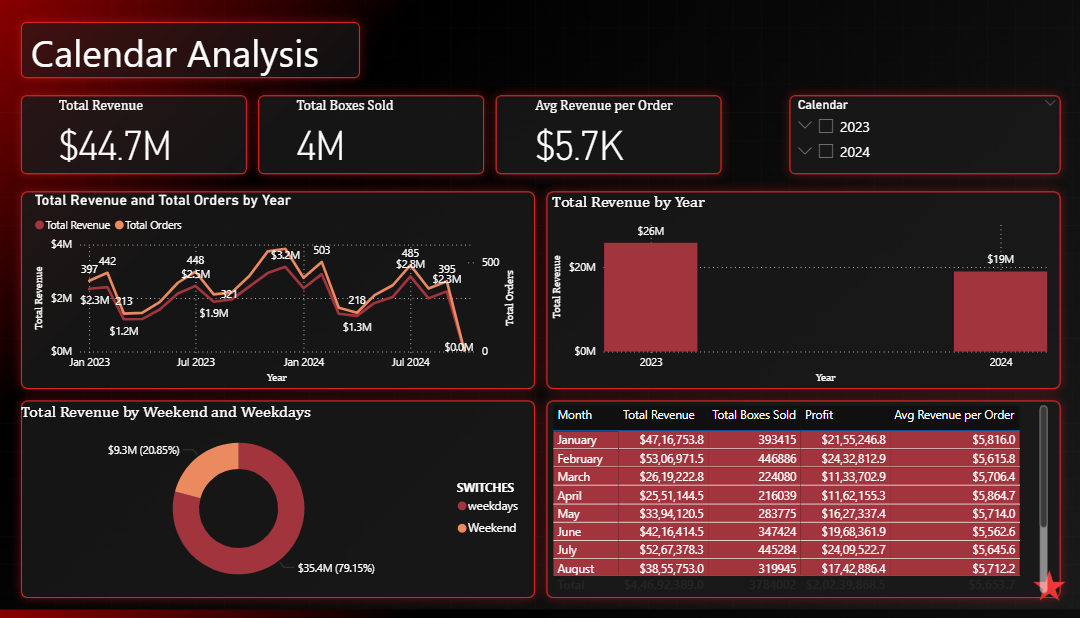

What the dashboard file says about the page in this screenshot:
{"tool":"powerbi","page":{"name":"Calendar Analysis","canvas":[1280,720],"ordinal":4},"visuals":[{"type":"image","box":[16,0,1264,720],"z":0},{"type":"lineChart","title":"Total Revenue and Total Orders by Year","fields":{"Y":["All Mesaures.Total Revenue"],"Category":["calendar.cal_date.Variation.Date Hierarchy.Year","calendar.cal_date.Variation.Date Hierarchy.Quarter","calendar.cal_date.Variation.Date Hierarchy.Month"],"Y2":["All Mesaures.Total Orders"]},"box":[64,224,560,224],"z":1000},{"type":"clusteredColumnChart","fields":{"Category":["calendar.cal_date.Variation.Date Hierarchy.Year"],"Y":["All Mesaures.Total Revenue"]},"box":[656,224,576,224],"z":2000},{"type":"donutChart","title":"Total Revenue by Weekend and Weekdays","fields":{"Y":["All Mesaures.Total Revenue"],"Category":["calendar.SWITCHES"]},"box":[48,464,592,224],"z":3000},{"type":"textbox","box":[48,32,400,80],"z":4000},{"type":"cardVisual","fields":{"Data":["All Mesaures.Total Revenue"]},"box":[80,112,208,96],"z":5000},{"type":"cardVisual","fields":{"Data":["All Mesaures.Total Boxes Sold"]},"box":[352,112,208,96],"z":6000},{"type":"tableEx","fields":{"Values":["calendar.cal_date.Variation.Date Hierarchy.Month","All Mesaures.Total Revenue","All Mesaures.Total Boxes Sold","All Mesaures.Profit","All Mesaures.Avg Revenue per Order"]},"box":[656,464,576,224],"z":7000},{"type":"cardVisual","fields":{"Data":["All Mesaures.Avg Revenue per Order"]},"box":[624,112,208,96],"z":8000},{"type":"slicer","fields":{"Values":["calendar.cal_date.Variation.Date Hierarchy.Year","calendar.cal_date.Variation.Date Hierarchy.Month"]},"box":[928,112,320,96],"z":9000}]}

Visuals, with their boxes in screenshot pixels (x1, y1, x2, y2), scaled from the page's 1280x720 canvas onto the 1080x618 screenshot:
image: pyautogui.locateOnScreen(14, 0, 1079, 617)
"Total Revenue and Total Orders by Year" lineChart: pyautogui.locateOnScreen(54, 192, 526, 385)
clusteredColumnChart - calendar.cal_date.Variation.Date Hierarchy.Year x All Mesaures.Total Revenue: pyautogui.locateOnScreen(554, 192, 1040, 385)
"Total Revenue by Weekend and Weekdays" donutChart: pyautogui.locateOnScreen(40, 398, 540, 591)
textbox: pyautogui.locateOnScreen(40, 27, 378, 96)
cardVisual - All Mesaures.Total Revenue: pyautogui.locateOnScreen(68, 96, 243, 179)
cardVisual - All Mesaures.Total Boxes Sold: pyautogui.locateOnScreen(297, 96, 472, 179)
tableEx - calendar.cal_date.Variation.Date Hierarchy.Month x All Mesaures.Total Revenue: pyautogui.locateOnScreen(554, 398, 1040, 591)
cardVisual - All Mesaures.Avg Revenue per Order: pyautogui.locateOnScreen(526, 96, 702, 179)
slicer - calendar.cal_date.Variation.Date Hierarchy.Year x calendar.cal_date.Variation.Date Hierarchy.Month: pyautogui.locateOnScreen(783, 96, 1053, 179)
